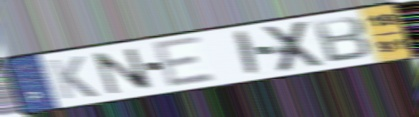B: (310, 15, 374, 65)
E: (150, 34, 219, 91)
I: (235, 28, 261, 78)
K: (46, 54, 101, 101)
N: (90, 47, 157, 96)
X: (262, 18, 329, 74)
